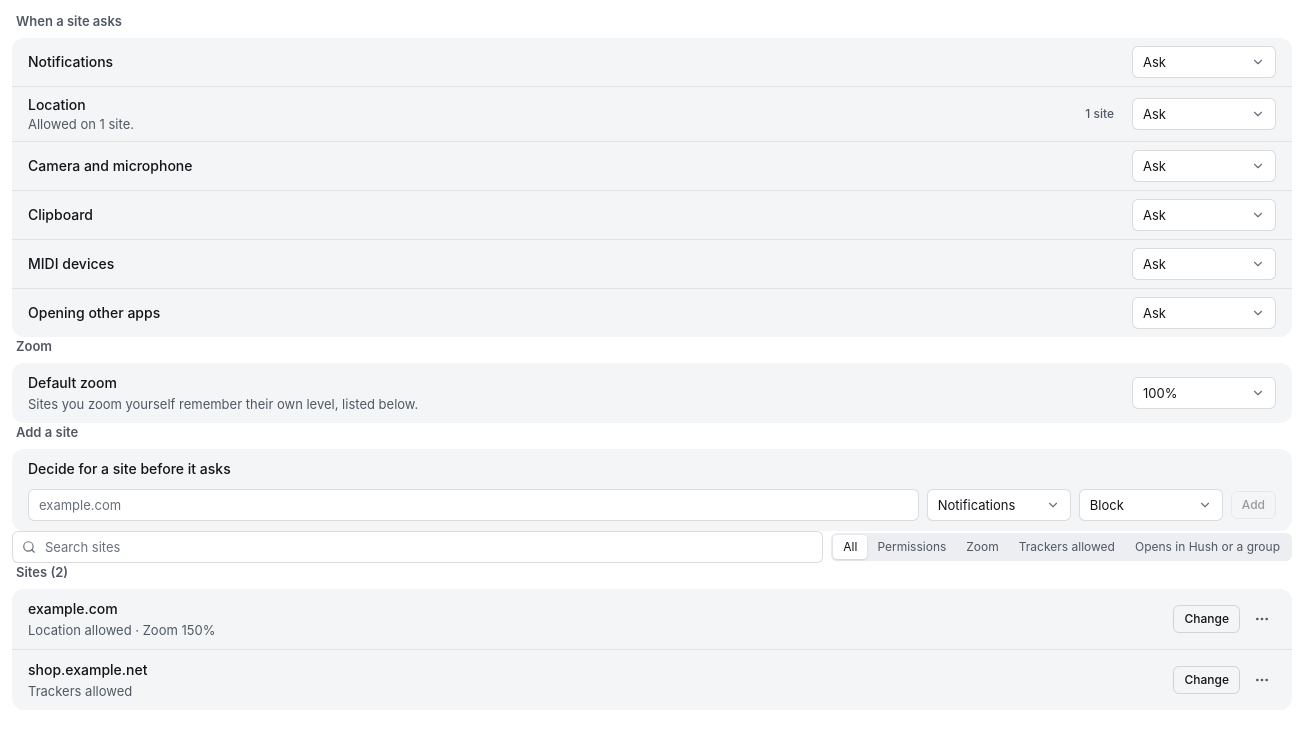
Test: narrowing the list › shows only the sites with what was asked for
The image size is (1304, 732).
Click the radio button labelled "Trackers allowed" at (1067, 547), box [1009,535,1125,559]
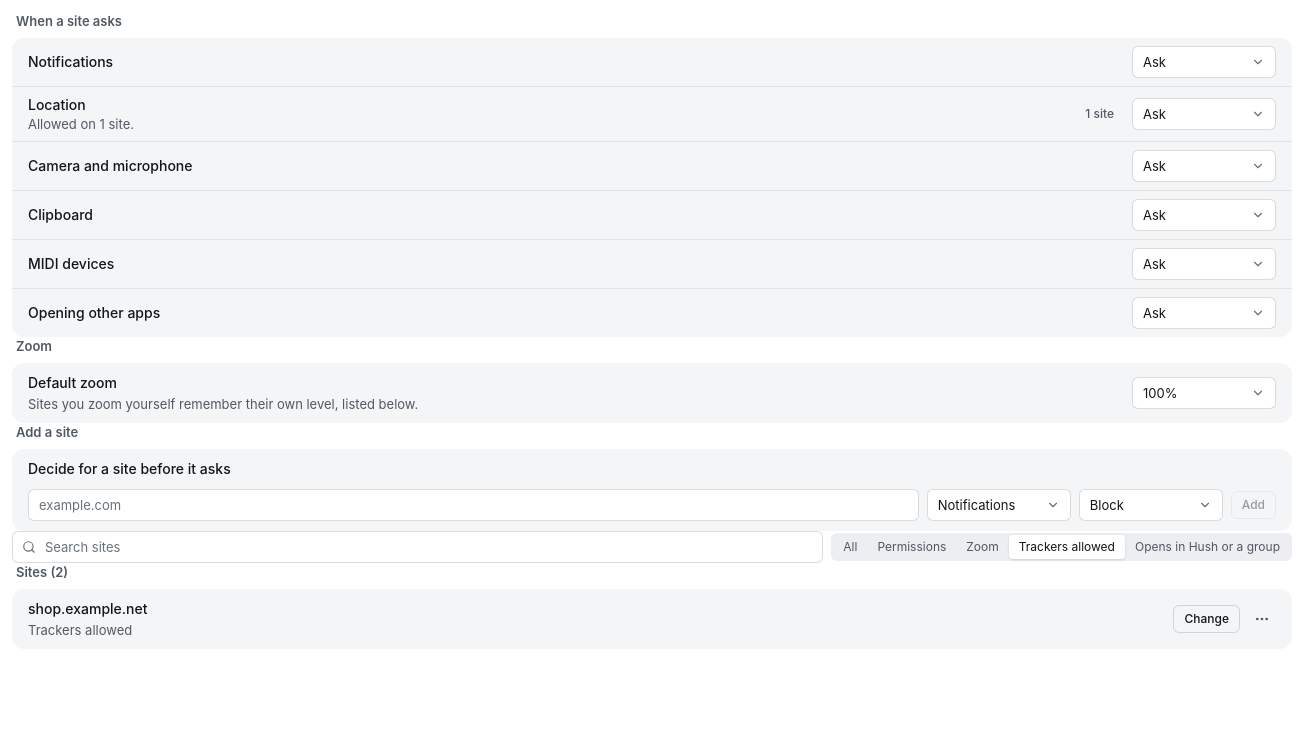
Expected: the text "shop.example.net" is shown, [28,599,148,619]
Click the radio button labelled "Zoom" at (983, 547), box [956,535,1009,559]
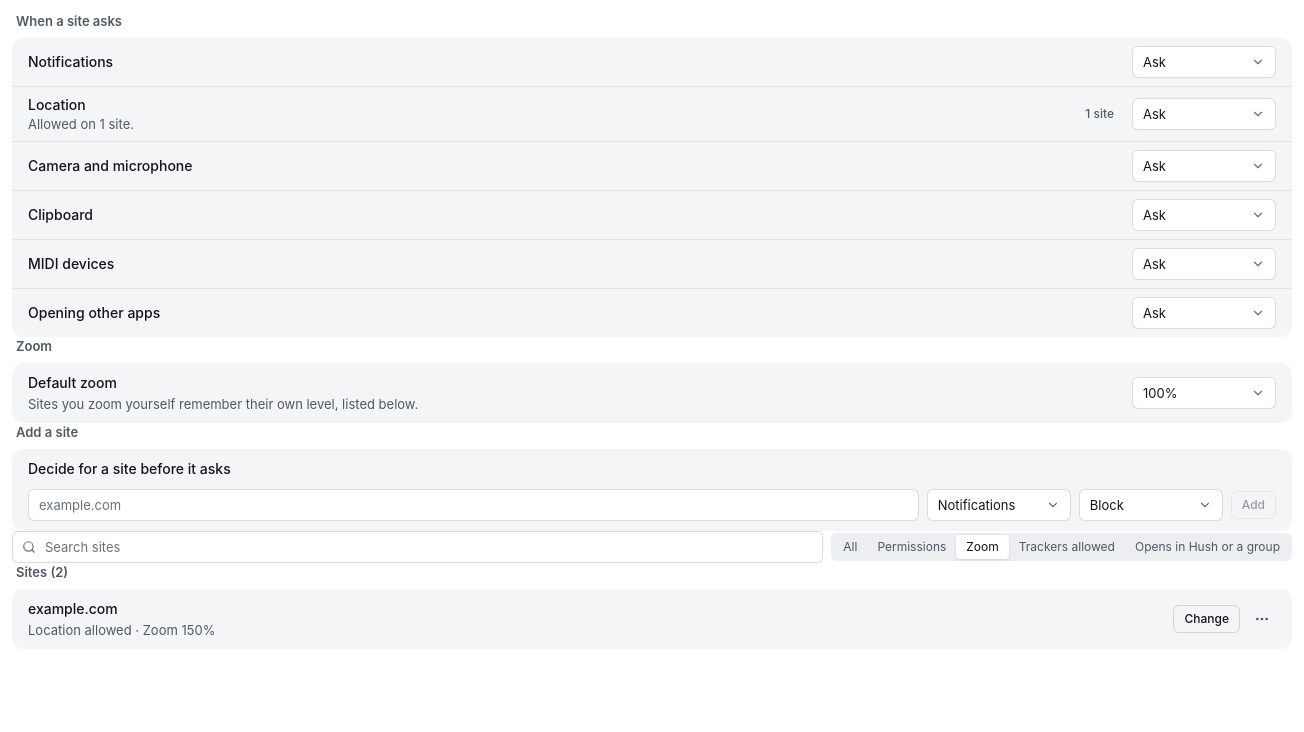
Now the text "example.com" is shown, box [28,600,118,617]
Now the text "shop.example.net" is gone
